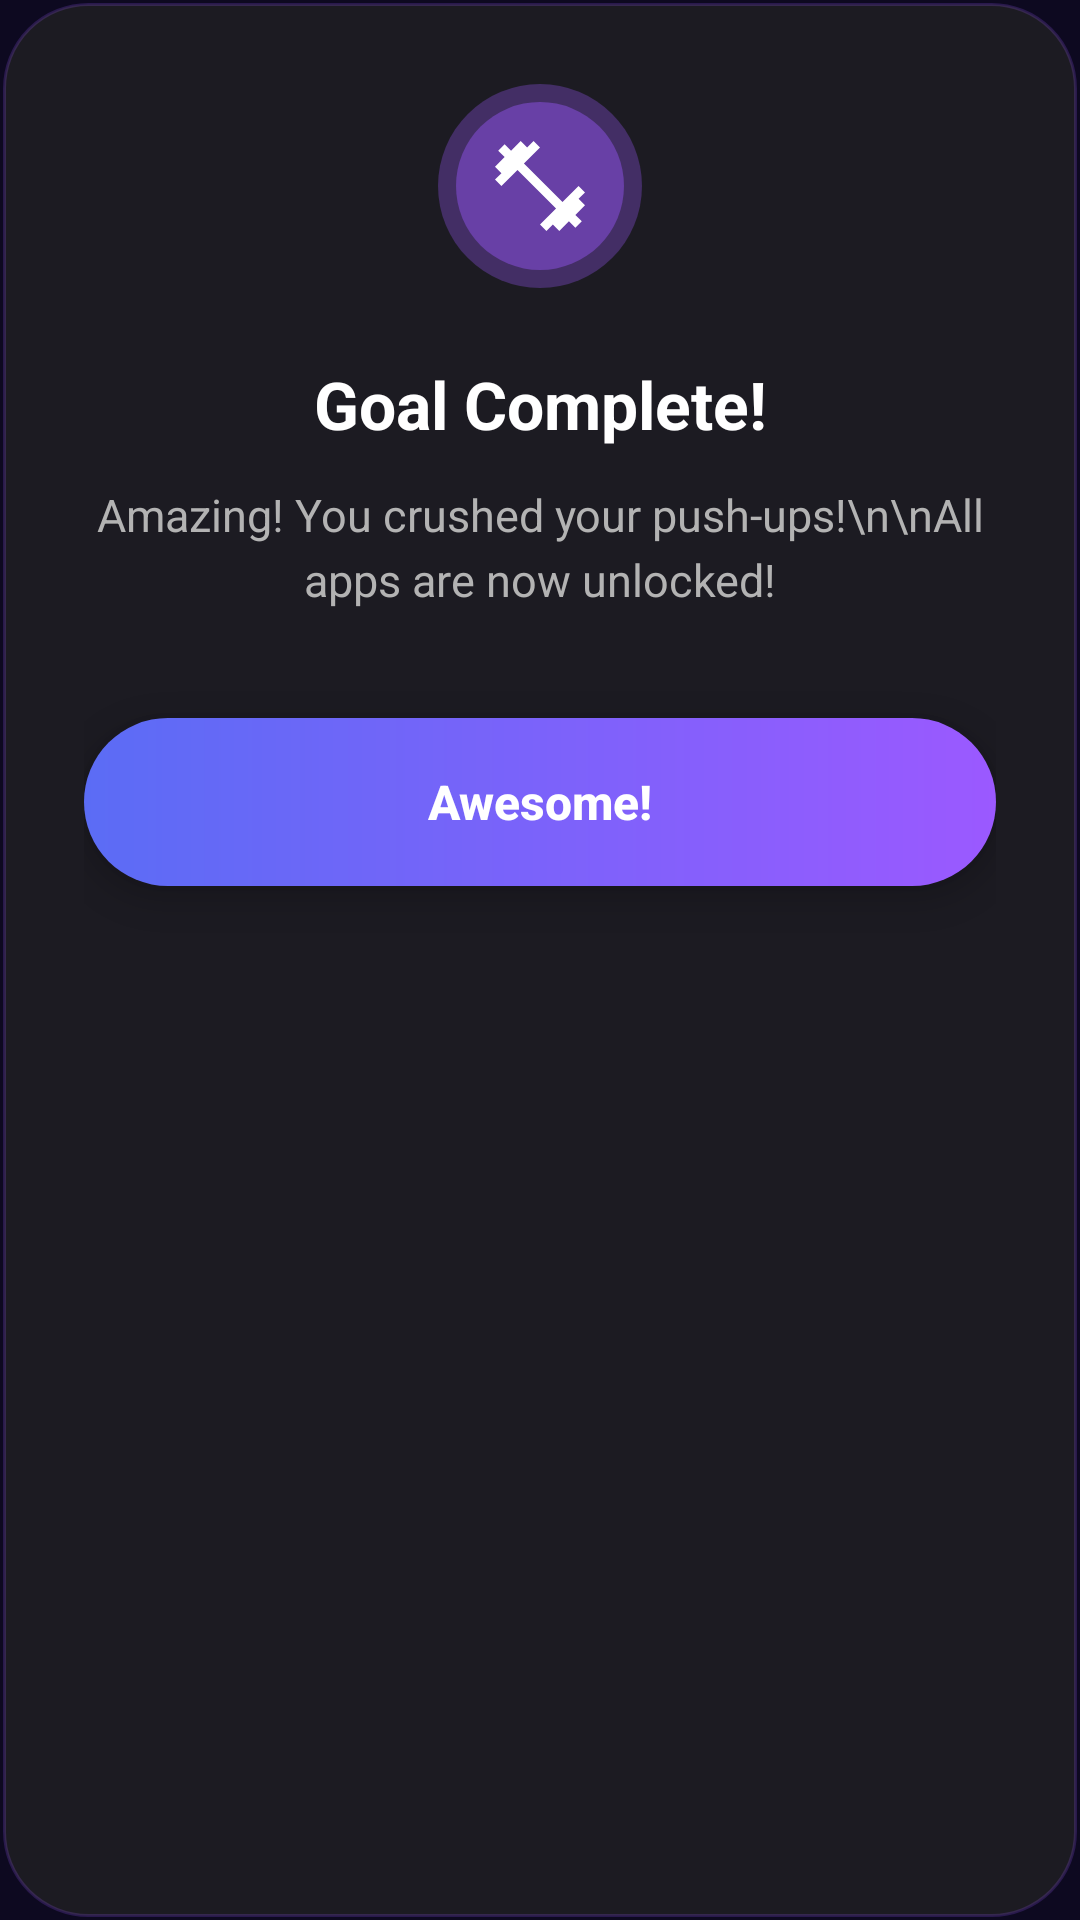

Named icons in this screenshot (1080w x 1920h) and their centers, (x=x, y=y):
dumbbell: (x=540, y=186)
